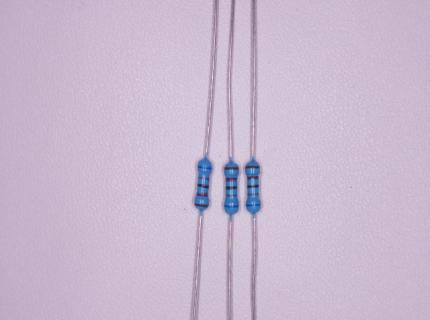Black band: (197, 183, 209, 189), (225, 186, 237, 190), (247, 184, 259, 188)
Blue band: (197, 165, 212, 169), (246, 203, 261, 207), (224, 205, 239, 208)
Brown band: (194, 203, 209, 208), (224, 166, 239, 170), (245, 165, 260, 169)
Grey band: (247, 193, 259, 196), (226, 194, 237, 197), (198, 177, 209, 180)
Red band: (225, 177, 237, 182), (196, 192, 208, 197), (247, 176, 259, 180)
